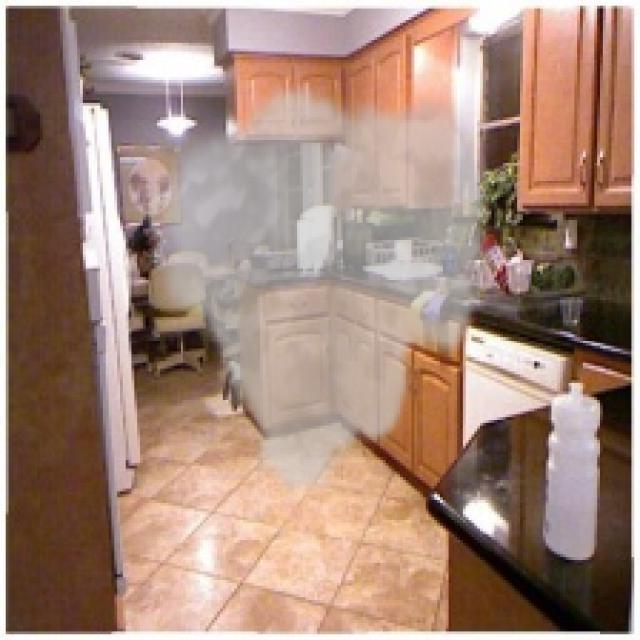Smoke: (152, 80, 494, 503)
